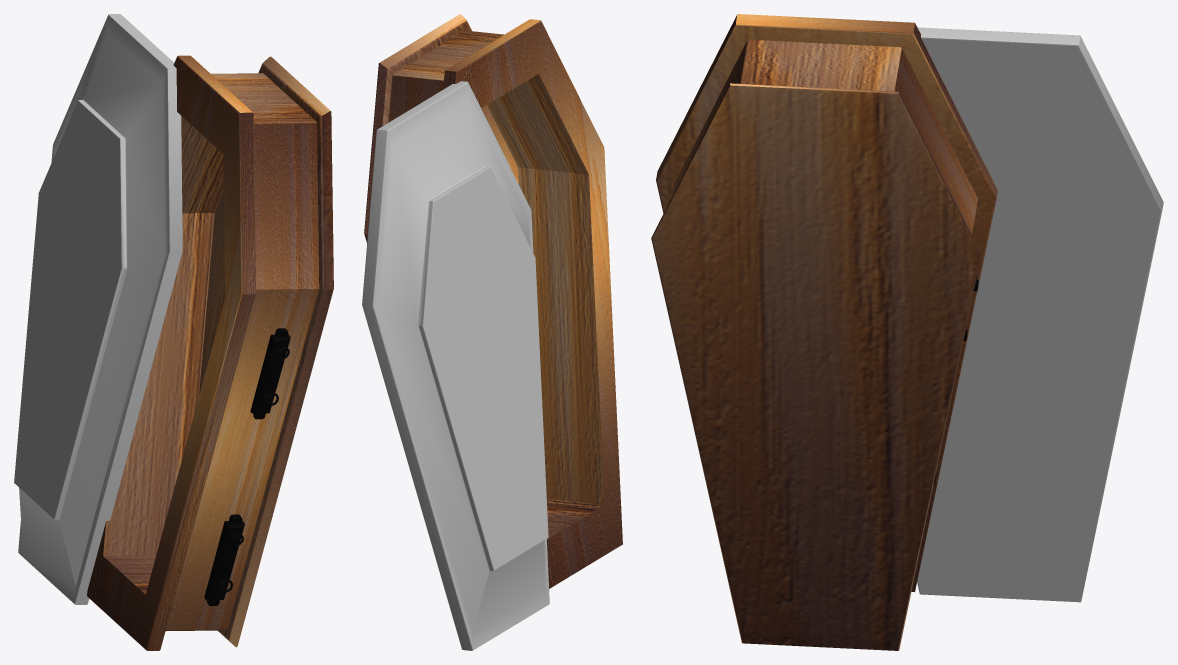
The model's file is ataud.fbx.
The picture shows the model from 3 angles, left to right: view 1: azimuth 30°, elevation 25°; view 2: azimuth 150°, elevation 25°; view 3: azimuth 270°, elevation 25°; orthographic projection. The views are drawn at different scales.
Parts seen in each view (by area): view 1: pCube21, pPlane1, pCube16 (×2); view 2: pPlane1, pCube21; view 3: pCube21, pPlane1.
Boxes of the visible parts, box(x1,y1,x2,y2) form: pCube21: box(87, 55, 333, 650); pPlane1: box(14, 14, 182, 604); pCube16 (×2): box(204, 328, 290, 606); pPlane1: box(362, 81, 549, 650); pCube21: box(364, 14, 622, 588); pCube21: box(651, 14, 997, 650); pPlane1: box(917, 27, 1163, 602).
Bounding box in the file's own units: 57.59 × 150 × 110.
